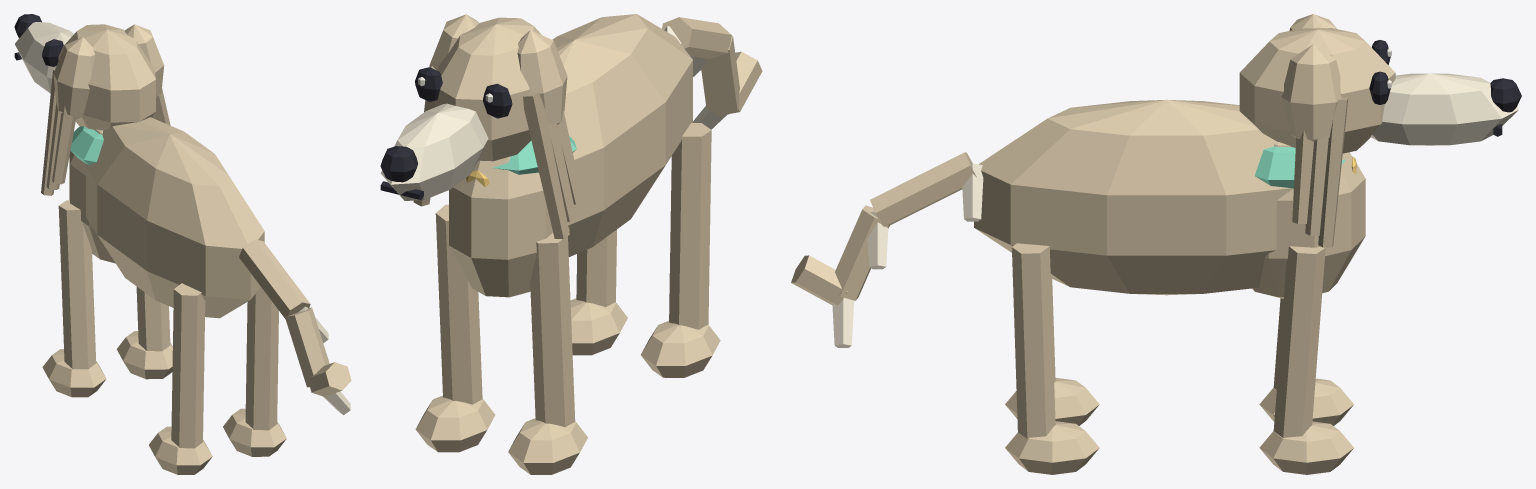
Rendered from saluki.glb.
3 views of the same model, side by side, from view 1: azimuth 30°, elevation 25°; view 2: azimuth 150°, elevation 25°; view 3: azimuth 270°, elevation 25° (orthographic). The views are drawn at different scales.
Visible parts, largest first — view 1: BodyMesh, HeadMesh; view 2: BodyMesh, HeadMesh; view 3: BodyMesh, HeadMesh.
Boxes of the visible parts, x1,y1,x2,y2 form: BodyMesh: (42,117,351,474); HeadMesh: (14,14,170,195); BodyMesh: (415,14,762,474); HeadMesh: (380,14,582,238); BodyMesh: (791,99,1365,474); HeadMesh: (1239,14,1521,247).
Bounding box in the file's own units: 0.402 × 1.08 × 1.7.
